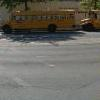Bus: (5, 7, 80, 36)
